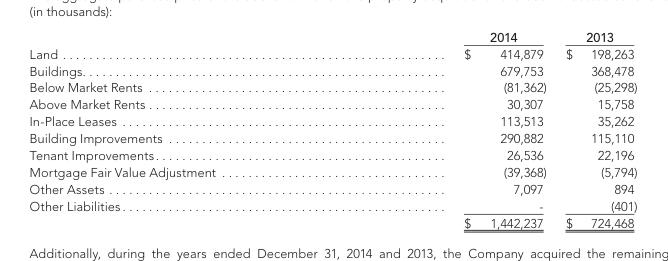table: (28, 28, 636, 229)
table column: (28, 28, 339, 229), (339, 28, 555, 229), (555, 28, 636, 229)
table column header: (28, 28, 636, 45)
table row: (28, 28, 636, 45), (28, 61, 636, 78), (28, 78, 636, 95), (28, 95, 636, 112), (28, 112, 636, 129), (28, 129, 636, 146), (28, 146, 636, 163), (28, 179, 636, 196), (28, 196, 636, 213), (28, 45, 636, 61), (28, 163, 636, 179), (28, 213, 636, 229)
